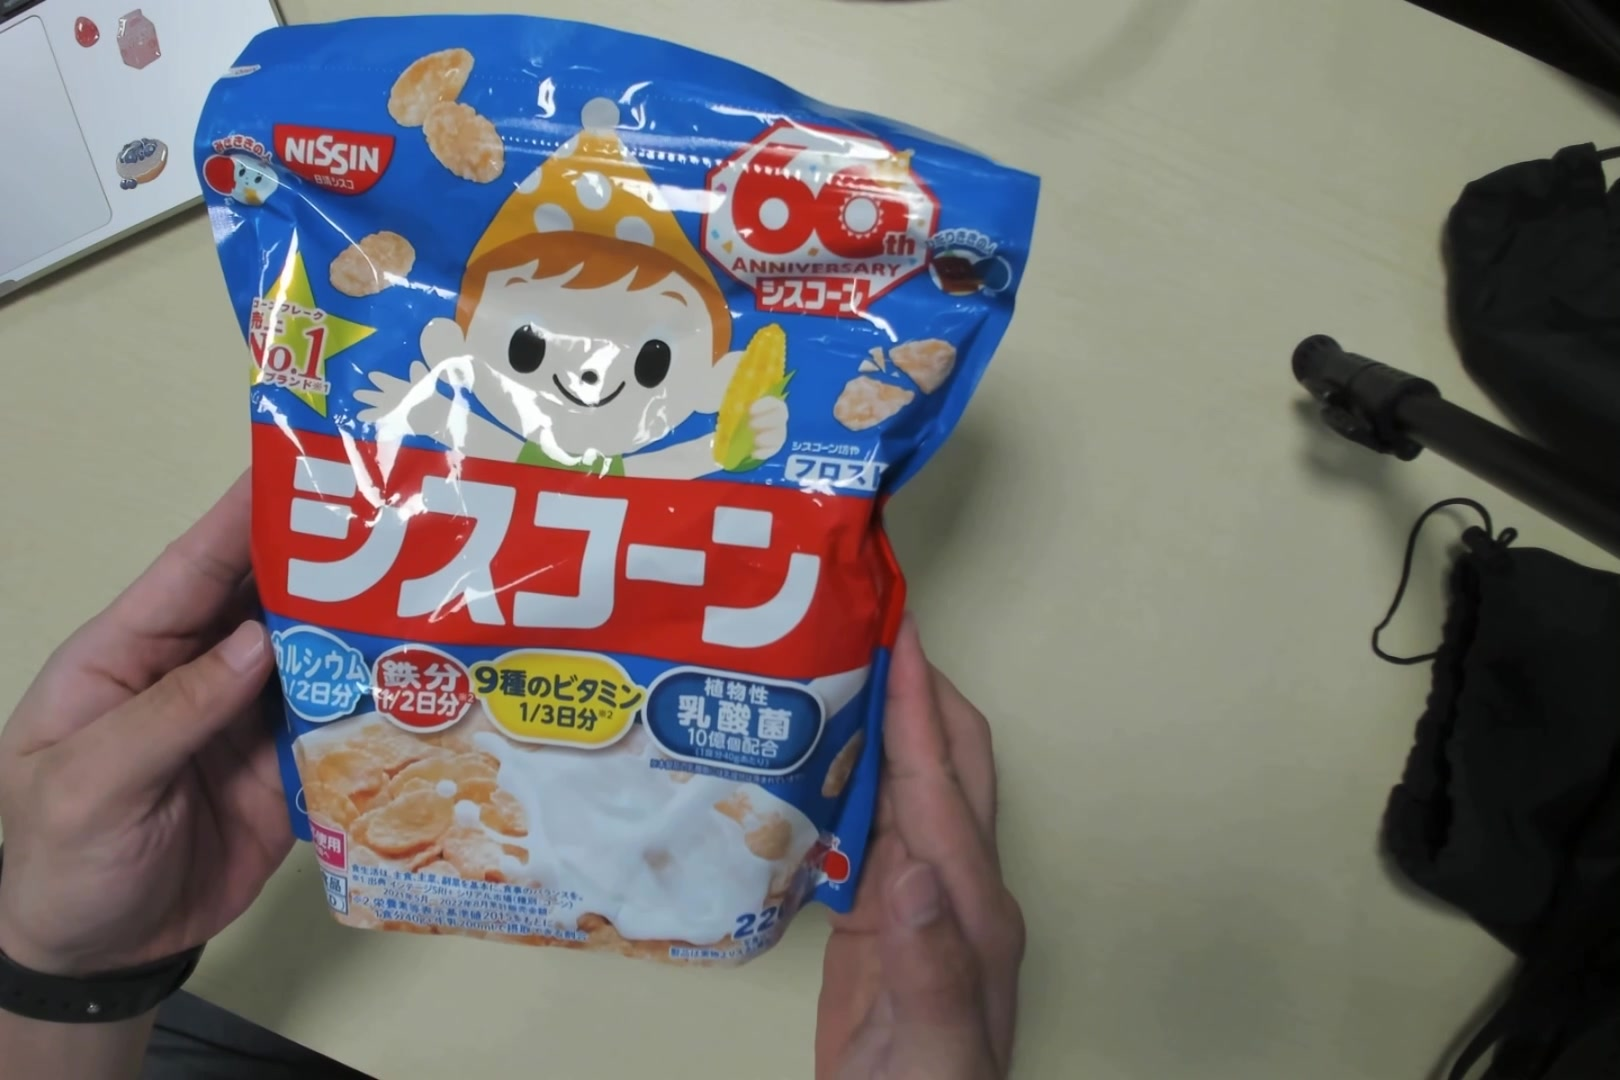BreakfastCereals_200-299g_NonHalal_NonHealthy: (219, 31, 999, 939)
